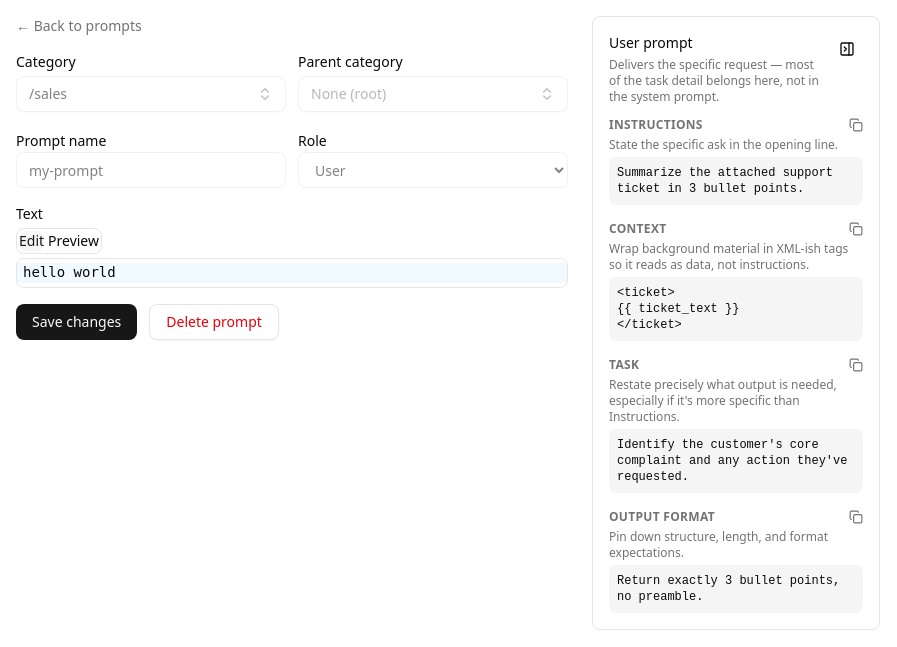
Scenario: PromptForm (update mode) › shows inline text error on 422 Jinja2 syntax failure
Step 1. Type "bad template" into the field named "Text" → (292, 273), box [17,259,567,287]
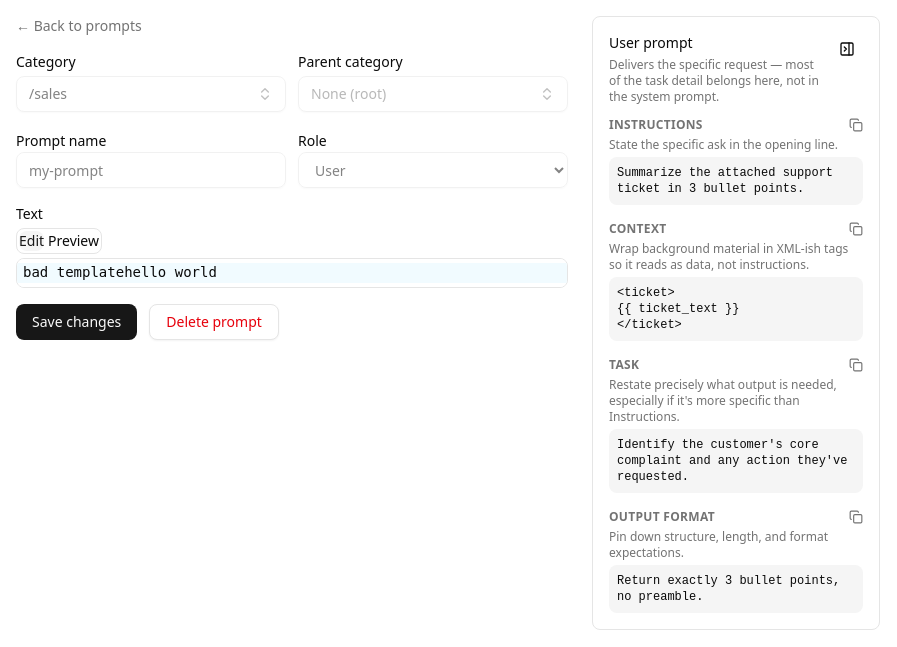
Step 2. Click the button "Save changes" → (77, 322), box [16,304,137,340]
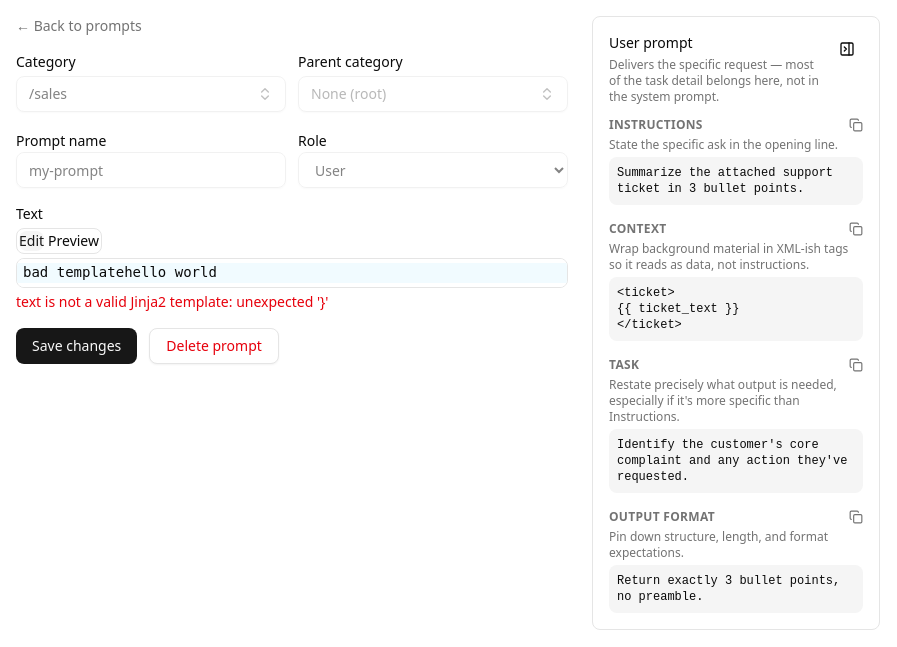
Result: the message shows "text is not a valid Jinja2 template" at [16,292,328,311]
